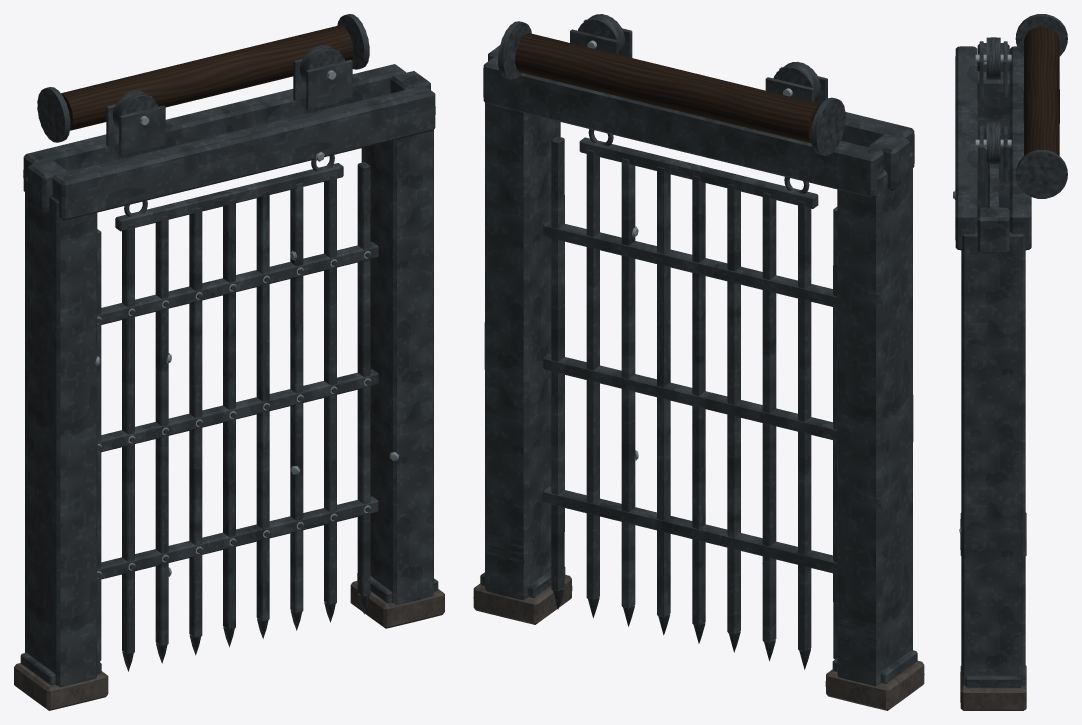
3 views of the same model, side by side, from view 1: azimuth 30°, elevation 25°; view 2: azimuth 150°, elevation 25°; view 3: azimuth 270°, elevation 25° (orthographic). The views are drawn at different scales.
Visible parts, largest first — view 1: gunmetal-cast-iron (×2), quarter-sawn-timber, foundry-slag-brick, machined-bearing-steel; view 2: gunmetal-cast-iron (×2), quarter-sawn-timber, foundry-slag-brick; view 3: gunmetal-cast-iron (×2), quarter-sawn-timber, foundry-slag-brick, machined-bearing-steel.
Boxes of the visible parts, left/top/right/bottom form: gunmetal-cast-iron (×2): left=20, top=14, right=438, bottom=687; quarter-sawn-timber: left=61, top=25, right=353, bottom=130; foundry-slag-brick: left=14, top=581, right=444, bottom=710; machined-bearing-steel: left=97, top=251, right=370, bottom=578; gunmetal-cast-iron (×2): left=480, top=14, right=917, bottom=686; quarter-sawn-timber: left=515, top=33, right=820, bottom=143; foundry-slag-brick: left=473, top=575, right=924, bottom=710; gunmetal-cast-iron (×2): left=955, top=14, right=1067, bottom=687; quarter-sawn-timber: left=1023, top=26, right=1059, bottom=155; foundry-slag-brick: left=960, top=512, right=1026, bottom=710; machined-bearing-steel: left=975, top=54, right=1011, bottom=147.
Bounding box in the file's own units: 2.13 × 2.96 × 0.5719.
5 materials, 4 textured.
